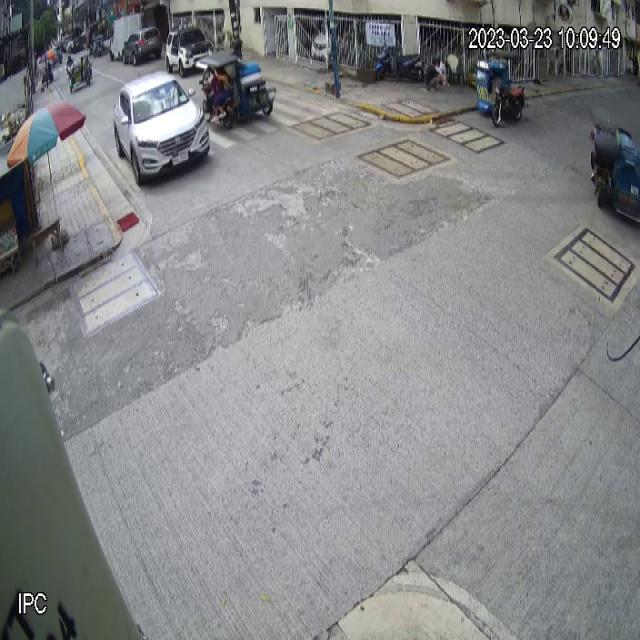Car: (113, 70, 211, 185)
Tricycle: (587, 104, 640, 223), (198, 50, 276, 130), (475, 49, 527, 128)
